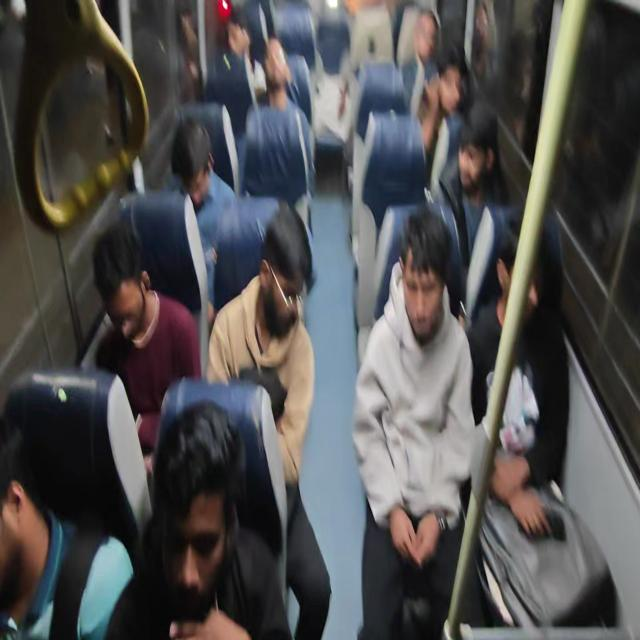person: (4, 1, 614, 637), (205, 203, 332, 638), (352, 207, 476, 638), (104, 398, 292, 638), (464, 213, 570, 629), (0, 375, 149, 639), (92, 220, 202, 472), (434, 101, 521, 324), (168, 116, 241, 306), (243, 36, 316, 218), (204, 5, 267, 139), (418, 46, 470, 198), (401, 7, 442, 118)
